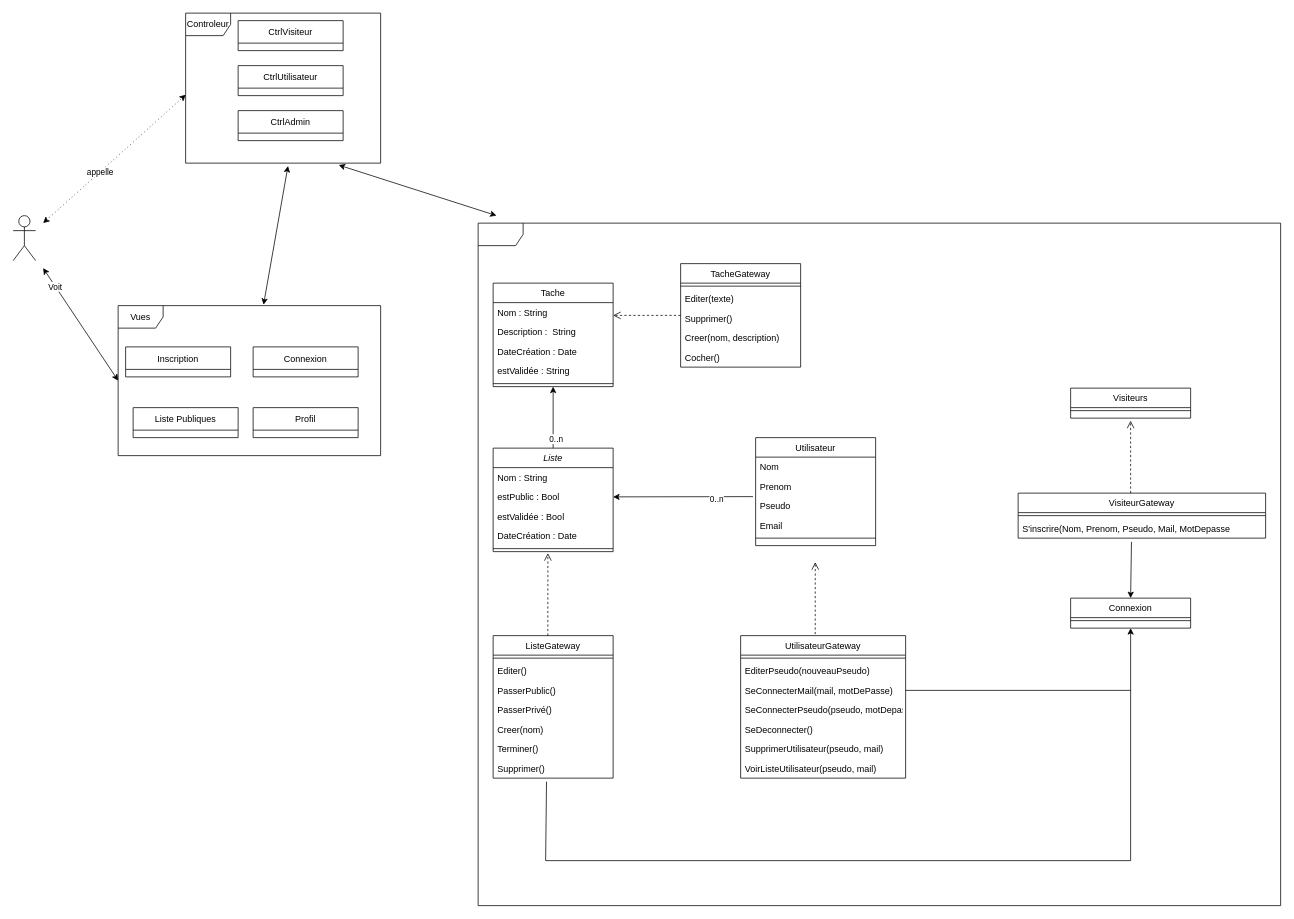
The diagram is 1294 pixels wide and 919 high, and some of its shapes have lost their labels. The centre of each missing label's shape, as x and y in pixels:
Actor: point (24, 238)
Modele: point (879, 564)
